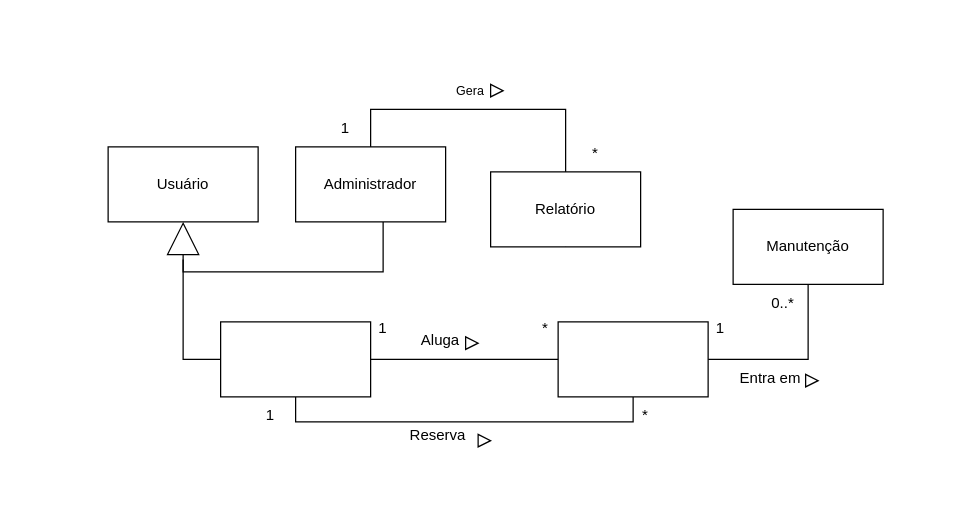
The diagram is 979 pixels wide and 530 high, and some of its shapes have lost their labels. The shapes that lost their labels are listed below. From the top down, each one's centre as x and y in pixels, then its label:
(x=295, y=359): Cliente
(x=632, y=359): Equipamento
